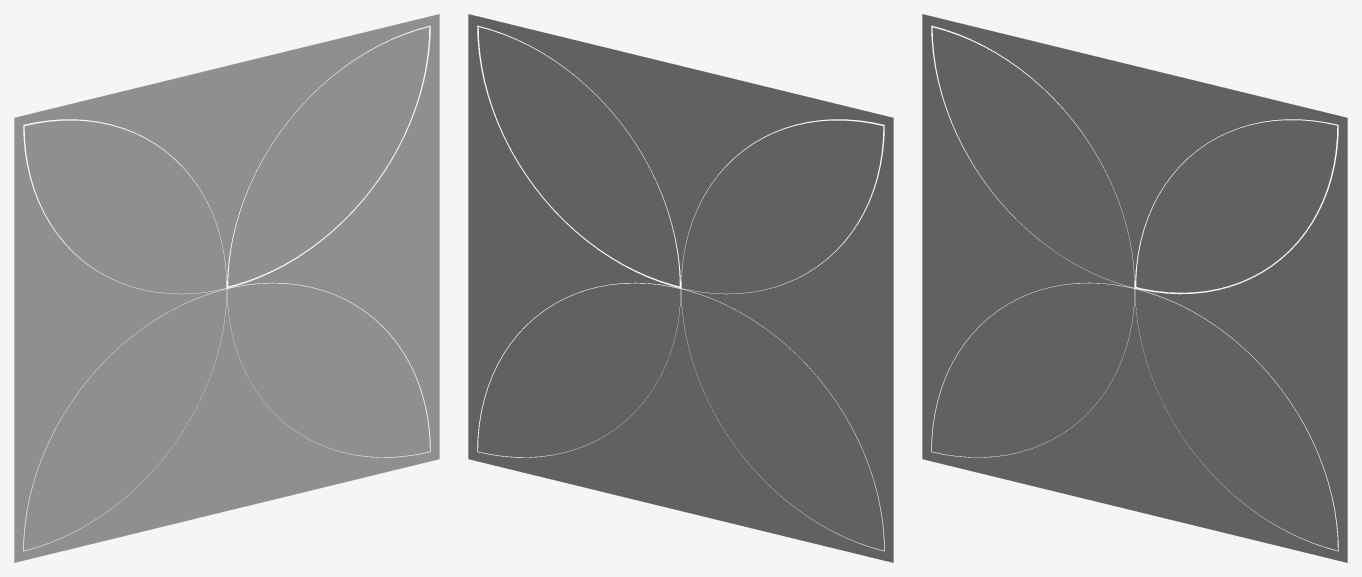
File: petals.glb
The picture shows the model from 3 angles, left to right: view 1: azimuth 30°, elevation 25°; view 2: azimuth 150°, elevation 25°; view 3: azimuth 330°, elevation 25°; orthographic projection.
Parts seen in each view (by area): view 1: petals; view 2: petals; view 3: petals.
Part boxes in pixels (bbox=[...]): petals: bbox=[14, 14, 439, 562]; petals: bbox=[468, 14, 893, 562]; petals: bbox=[922, 14, 1347, 562].
Size of the model in its own units: 60.96 by 60.96 by 0.
5 materials, 5 textured.
